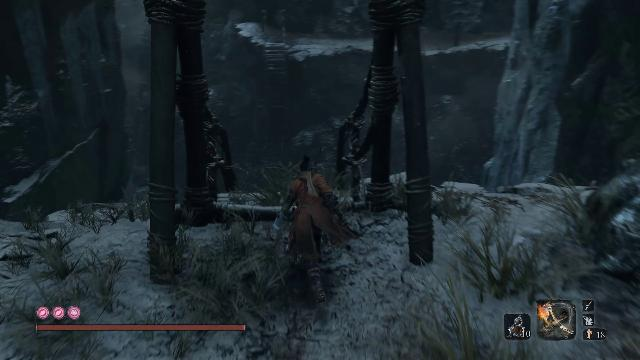sk: (271, 151, 365, 306)
